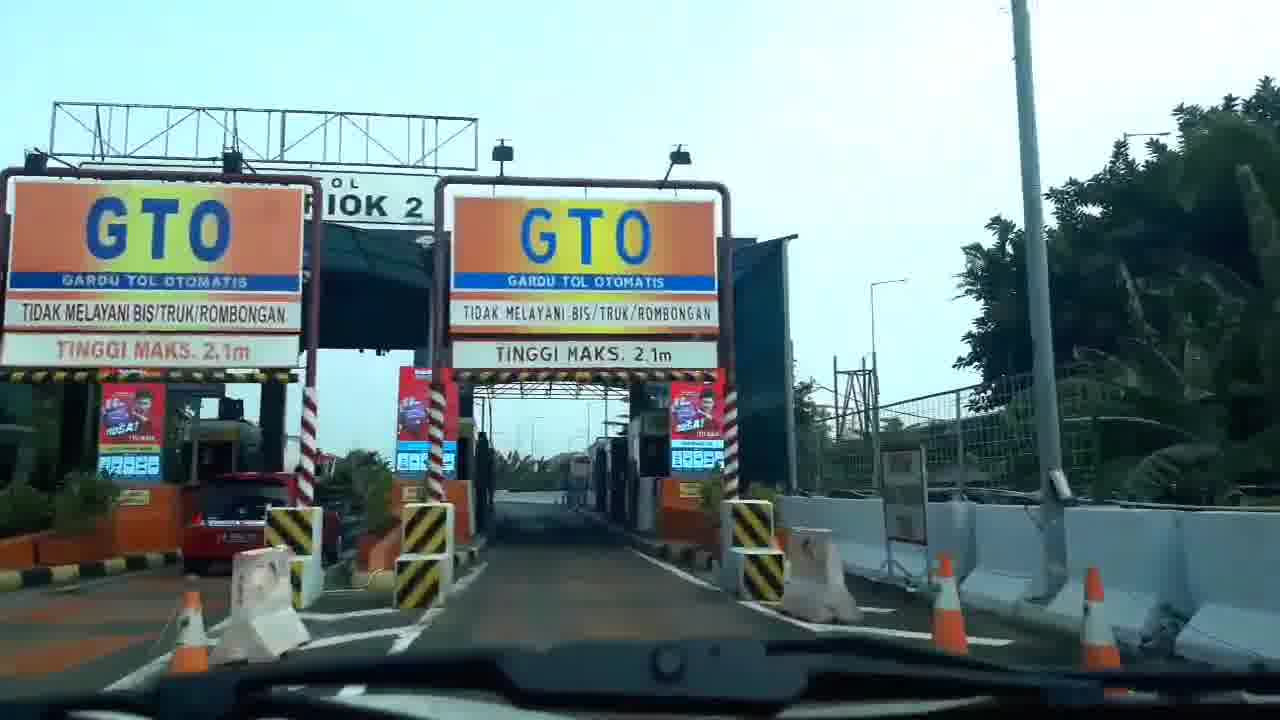plate_positive: (222, 531, 257, 545)
